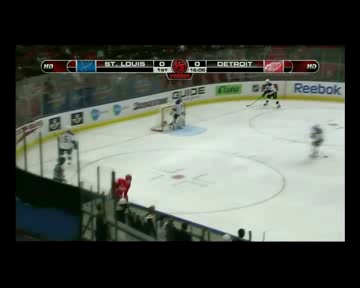normal: (162, 93, 196, 137), (248, 79, 287, 114)
